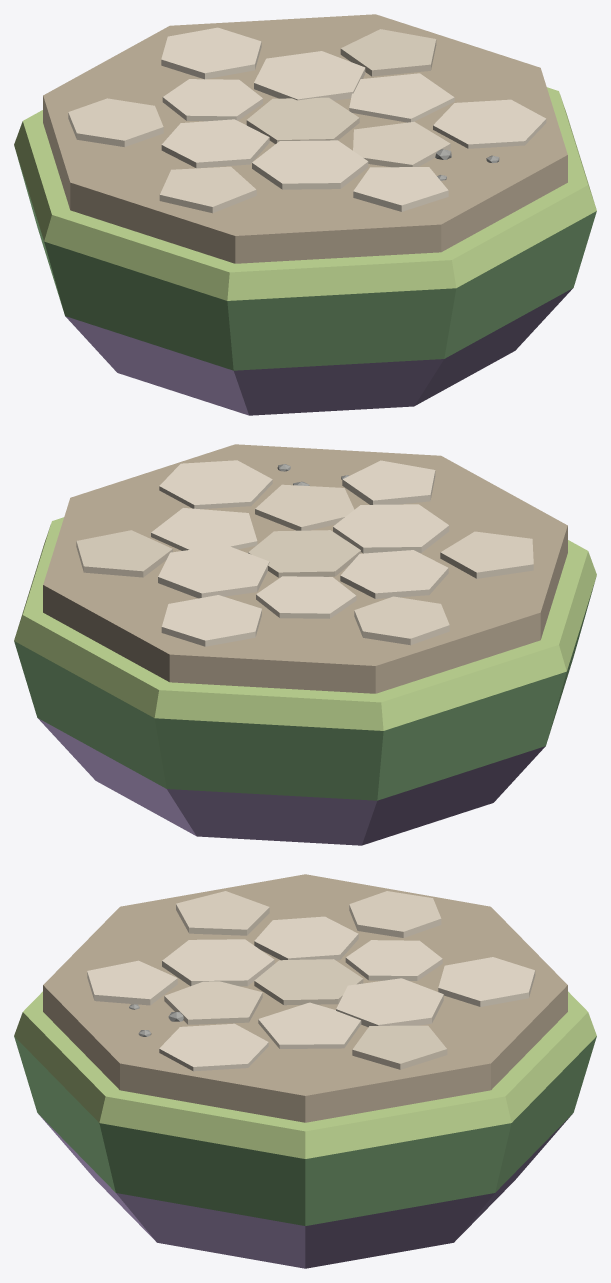
File: Platform_FloatingHex.fbx
3 views of the same model, one above another, from view 1: azimuth 30°, elevation 25°; view 2: azimuth 150°, elevation 25°; view 3: azimuth 270°, elevation 25° (orthographic). The views are drawn at different scales.
Visible parts, largest first — view 1: Platform_FloatingHex_Top, Platform_FloatingHex, Platform_FloatingHex_Side, Platform_FloatingHex_Rim, Platform_FloatingHex_Bottom; view 2: Platform_FloatingHex_Top, Platform_FloatingHex, Platform_FloatingHex_Side, Platform_FloatingHex_Rim, Platform_FloatingHex_Bottom; view 3: Platform_FloatingHex_Top, Platform_FloatingHex, Platform_FloatingHex_Side, Platform_FloatingHex_Rim, Platform_FloatingHex_Bottom.
Boxes of the visible parts, left/top/right/bottom form: Platform_FloatingHex_Top: left=43, top=14, right=567, bottom=263; Platform_FloatingHex: left=68, top=27, right=546, bottom=213; Platform_FloatingHex_Side: left=16, top=153, right=596, bottom=370; Platform_FloatingHex_Rim: left=14, top=87, right=596, bottom=300; Platform_FloatingHex_Bottom: left=65, top=288, right=572, bottom=415; Platform_FloatingHex_Top: left=43, top=444, right=567, bottom=693; Platform_FloatingHex: left=76, top=460, right=533, bottom=646; Platform_FloatingHex_Side: left=14, top=583, right=594, bottom=800; Platform_FloatingHex_Rim: left=14, top=517, right=596, bottom=730; Platform_FloatingHex_Bottom: left=38, top=718, right=545, bottom=845; Platform_FloatingHex_Top: left=43, top=874, right=567, bottom=1122; Platform_FloatingHex: left=87, top=891, right=535, bottom=1071; Platform_FloatingHex_Side: left=14, top=1036, right=596, bottom=1225; Platform_FloatingHex_Rim: left=14, top=991, right=596, bottom=1158; Platform_FloatingHex_Bottom: left=38, top=1114, right=572, bottom=1268.
Size of the model in its own units: 1.1 by 0.4201 by 1.1.
